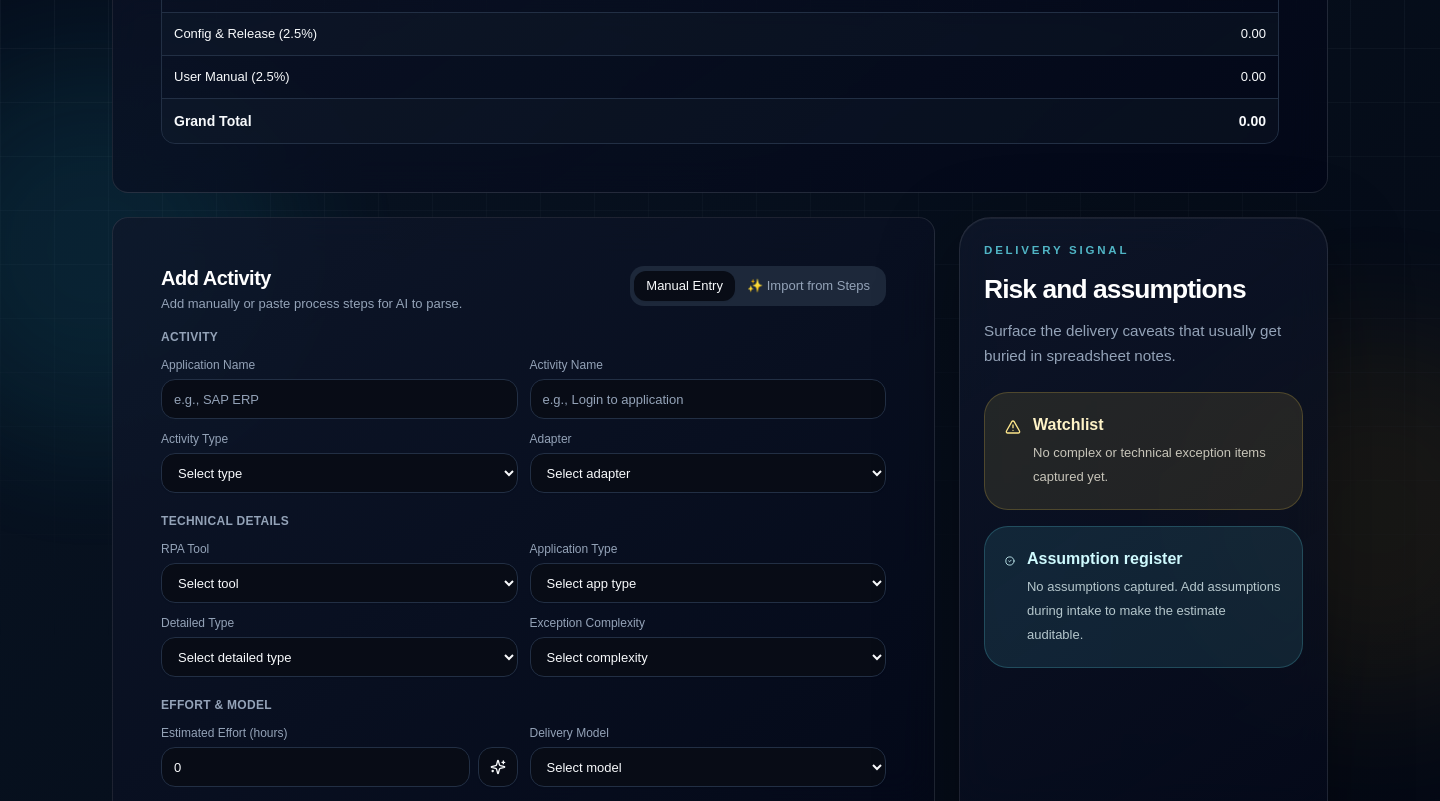
Scenario: ProjectPageClient › loads a persisted project after hydration and recalculates after activity entry
(page scrolled)
In the field labelled "Application Name": (339,399) [161, 379, 518, 419], type "SAP ERP"
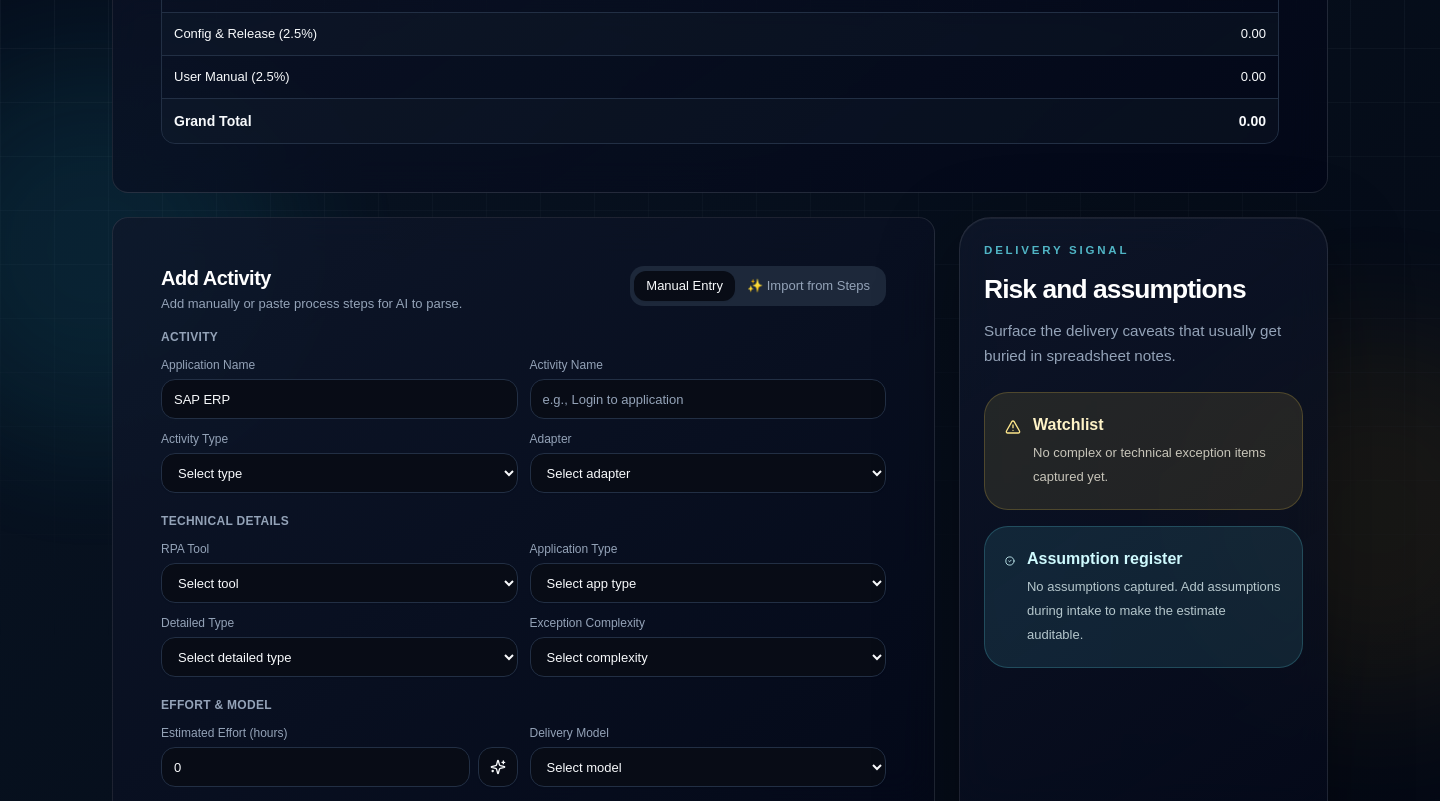
In the field labelled "Activity Name": (708,399) [530, 379, 886, 419], type "Extract pending invoices"
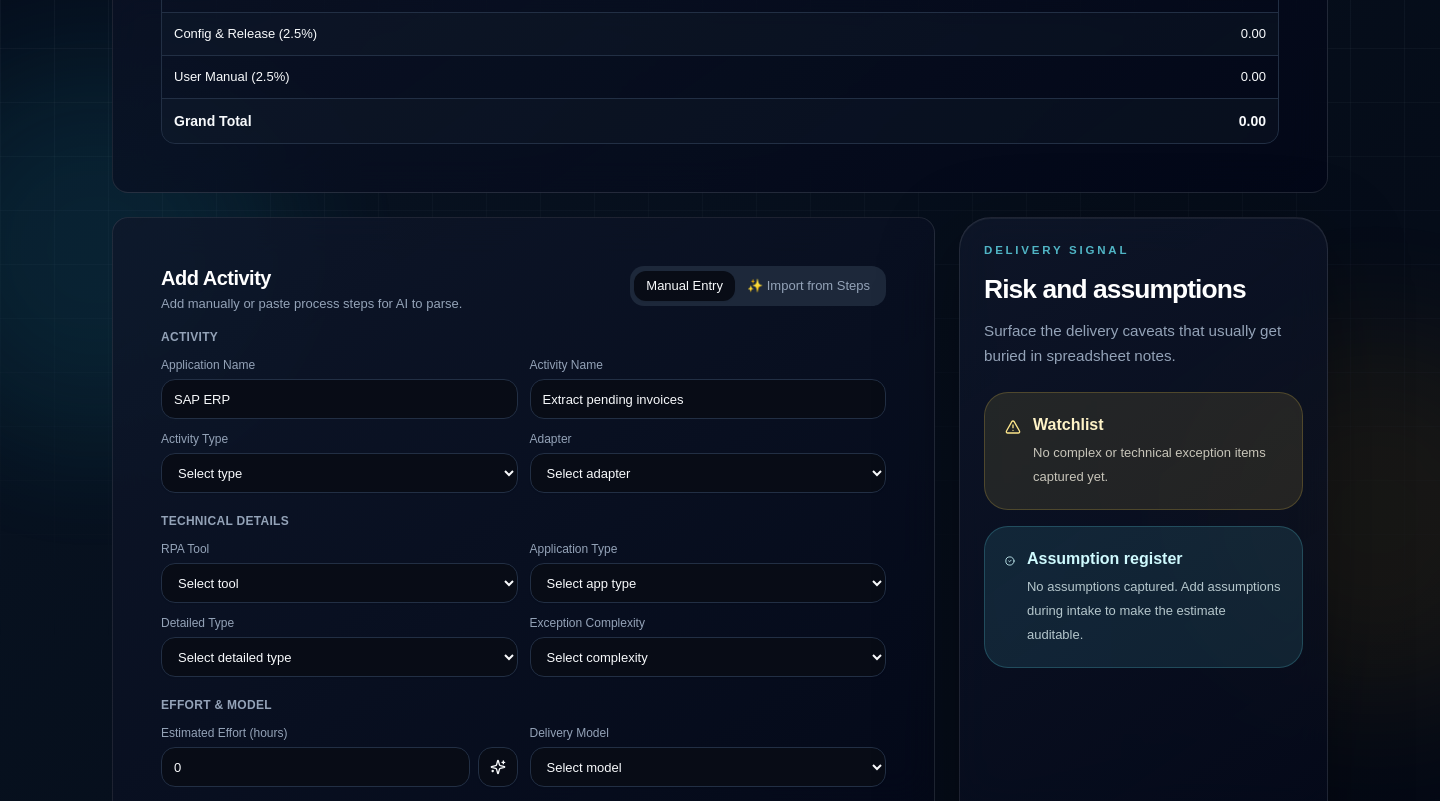
Replace the text in the number field labelled "Estimated Effort (hours)" with "4": (315,767) [161, 747, 470, 787]
(page scrolled)
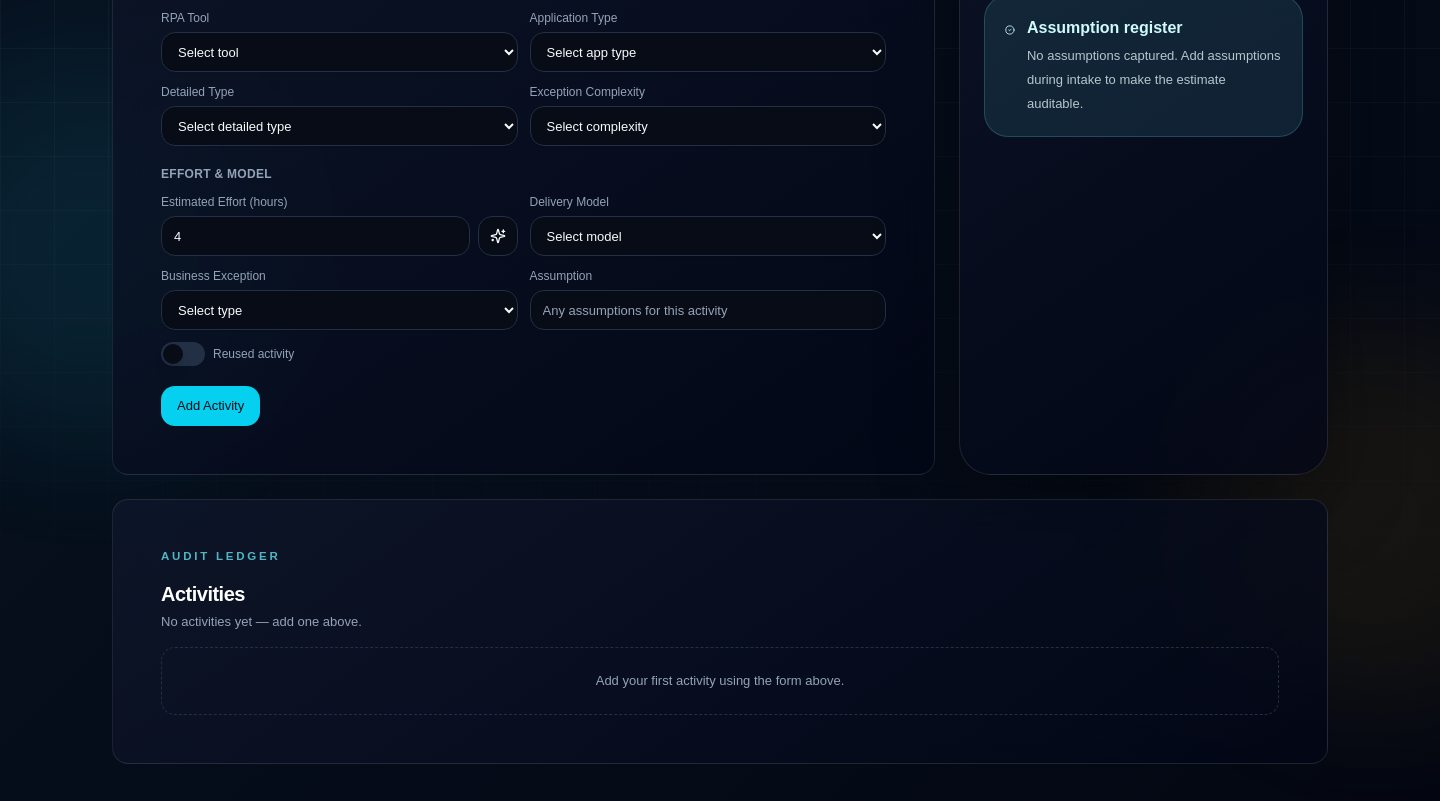
Click the button "Add Activity": (211,406) [161, 386, 260, 426]
(page scrolled)
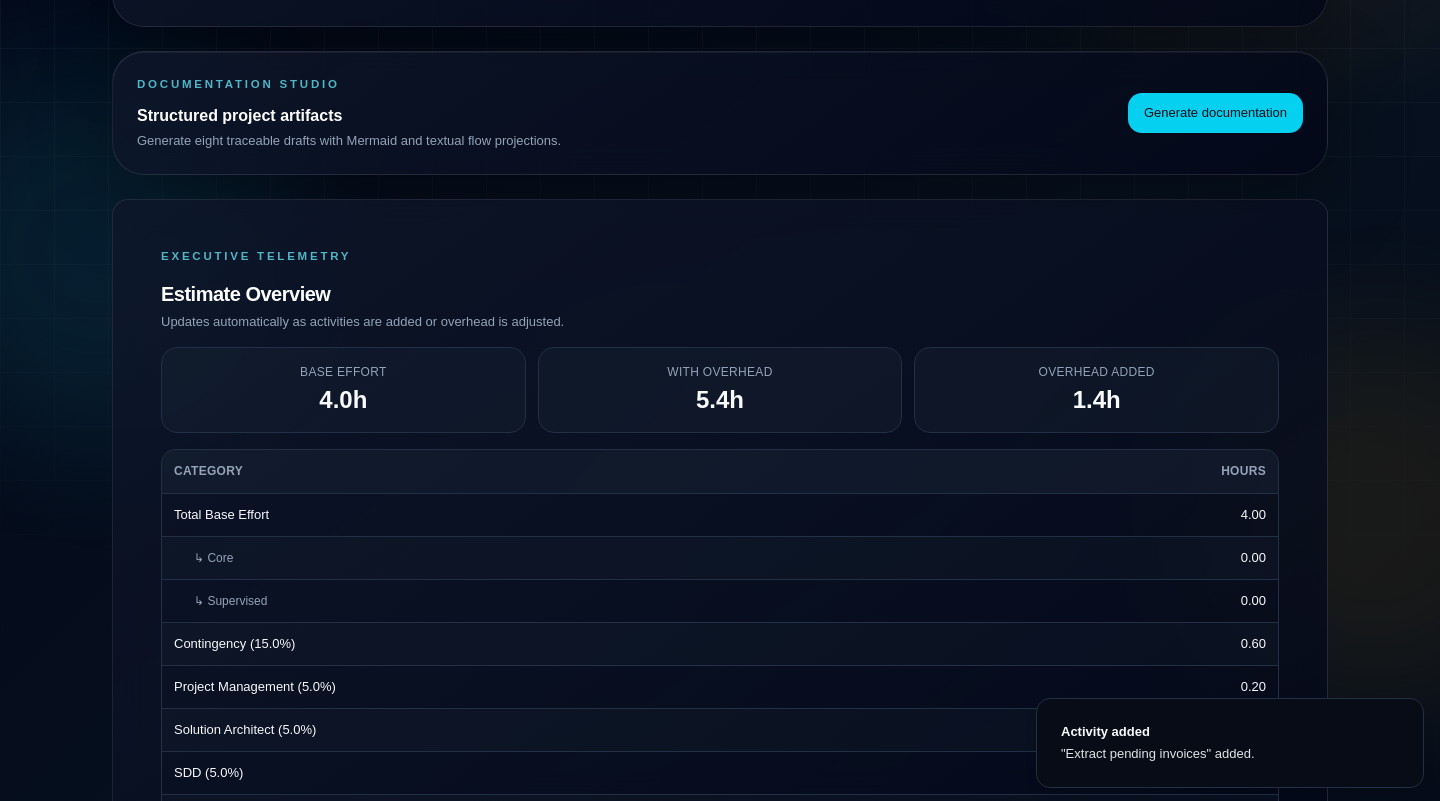
Now the text "4.0h" is shown, box [319, 386, 367, 412]
